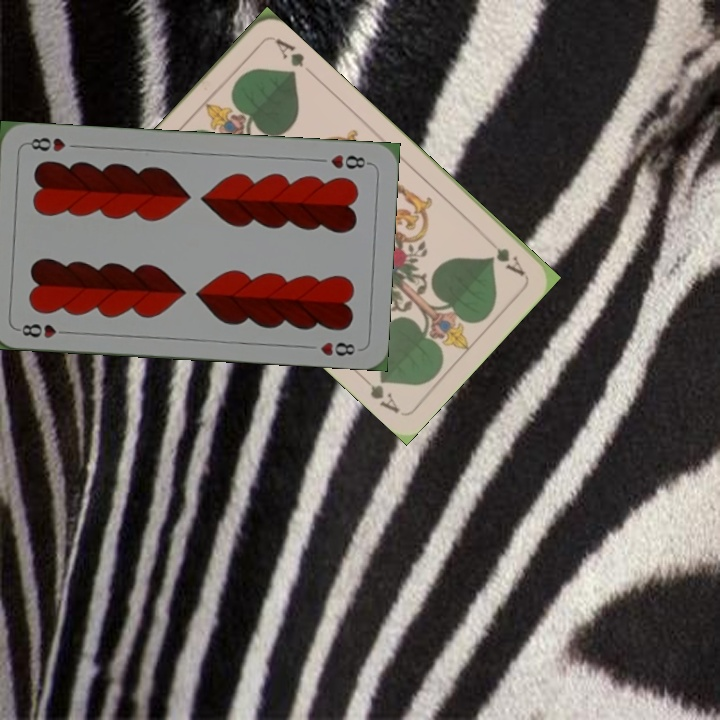GA: (488, 243, 528, 279)
H8: (13, 320, 73, 341), (326, 150, 373, 172)
